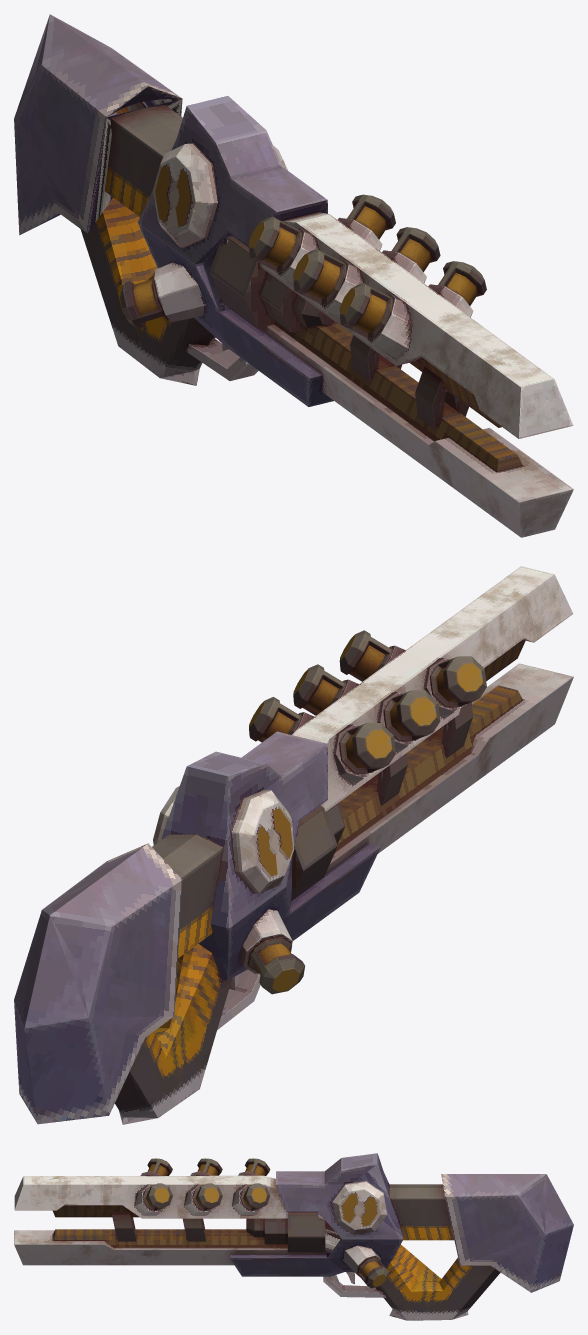
The model's file is item_railgun.glb.
3 renders of one model, top to bottom at view 1: azimuth 30°, elevation 25°; view 2: azimuth 150°, elevation 25°; view 3: azimuth 270°, elevation 25°, orthographic. The views are drawn at different scales.
Visible parts, largest first — view 1: Railgun, Cylinder_TopBack.001, Cylinder_TopFront.002, Cylinder_TopMid.001, Cylinder_Bottom, Cylinder_TopMid, Cylinder_TopBack, Cylinder_TopFront; view 2: Railgun, Cylinder_TopFront.002, Cylinder_TopBack.001, Cylinder_TopMid.001, Cylinder_Bottom, Cylinder_TopMid, Cylinder_TopFront, Cylinder_TopBack; view 3: Railgun, Cylinder_Bottom, Cylinder_TopMid, Cylinder_TopBack, Cylinder_TopFront, Cylinder_TopBack.001, Cylinder_TopMid.001, Cylinder_TopFront.002.
Part boxes in pixels (<box>): Railgun: <box>14,14,573,537</box>; Cylinder_TopBack.001: <box>249,216,301,272</box>; Cylinder_TopFront.002: <box>339,283,392,339</box>; Cylinder_TopMid.001: <box>293,249,346,305</box>; Cylinder_Bottom: <box>120,273,168,328</box>; Cylinder_TopMid: <box>391,227,440,271</box>; Cylinder_TopBack: <box>347,194,395,239</box>; Cylinder_TopFront: <box>437,261,486,305</box>; Railgun: <box>14,566,573,1124</box>; Cylinder_TopFront.002: <box>430,656,486,707</box>; Cylinder_TopBack.001: <box>339,722,395,773</box>; Cylinder_TopMid.001: <box>383,690,440,741</box>; Cylinder_Bottom: <box>248,936,304,994</box>; Cylinder_TopMid: <box>293,664,346,715</box>; Cylinder_TopFront: <box>339,630,392,681</box>; Cylinder_TopBack: <box>249,697,301,742</box>; Railgun: <box>14,1153,573,1320</box>; Cylinder_Bottom: <box>357,1257,388,1288</box>; Cylinder_TopMid: <box>192,1183,222,1210</box>; Cylinder_TopBack: <box>240,1183,270,1210</box>; Cylinder_TopFront: <box>142,1183,172,1210</box>; Cylinder_TopBack.001: <box>245,1158,270,1175</box>; Cylinder_TopMid.001: <box>197,1158,222,1175</box>; Cylinder_TopFront.002: <box>147,1158,172,1175</box>.
Size of the model in its own units: 0.2469 by 0.387 by 1.25.
1 material, 1 textured.
